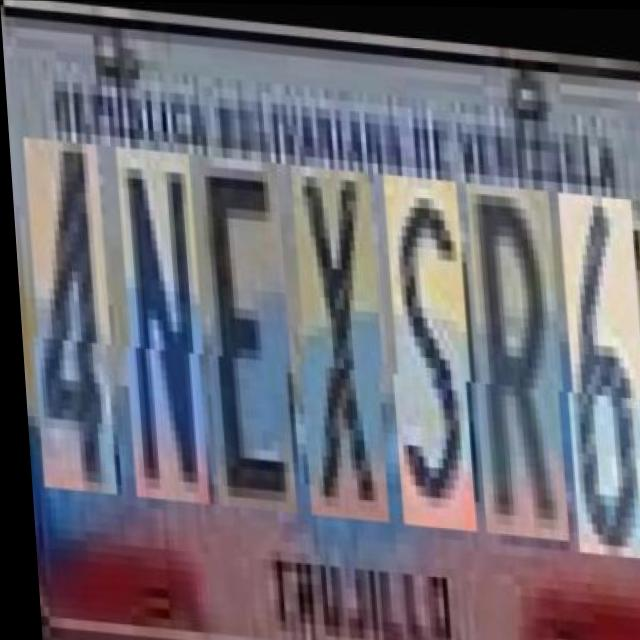4: (22, 136, 114, 493)
6: (556, 180, 640, 546)
e: (196, 151, 293, 507)
n: (113, 143, 206, 500)
r: (463, 173, 565, 530)
s: (380, 165, 473, 521)
x: (288, 158, 385, 514)
